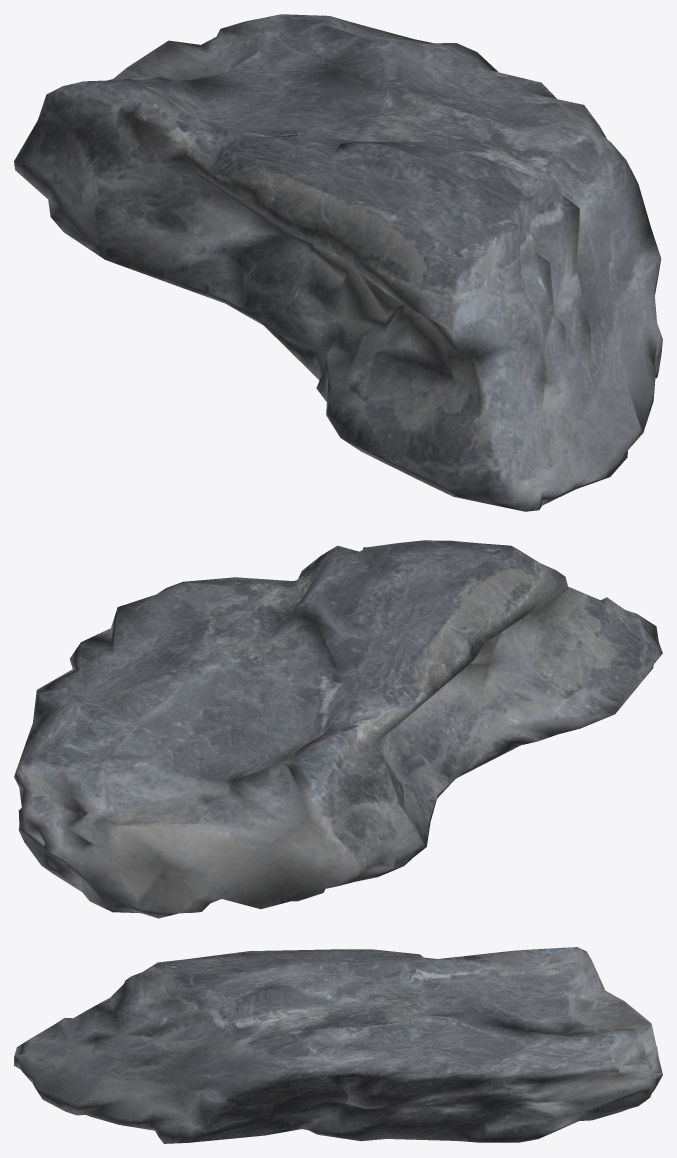
The model's file is kineo-jointed-block.glb.
3 renders of one model, top to bottom at view 1: azimuth 30°, elevation 25°; view 2: azimuth 150°, elevation 25°; view 3: azimuth 270°, elevation 25°, orthographic. The views are drawn at different scales.
Parts seen in each view (by area): view 1: kineo jointed block; view 2: kineo jointed block; view 3: kineo jointed block.
Part boxes in pixels (bbox=[...]): kineo jointed block: bbox=[14, 14, 662, 511]; kineo jointed block: bbox=[14, 540, 662, 918]; kineo jointed block: bbox=[14, 947, 662, 1143].
Bounding box in the file's own units: 0.5711 × 0.2523 × 1.12.
Materials: 1 (1 with a texture image).
